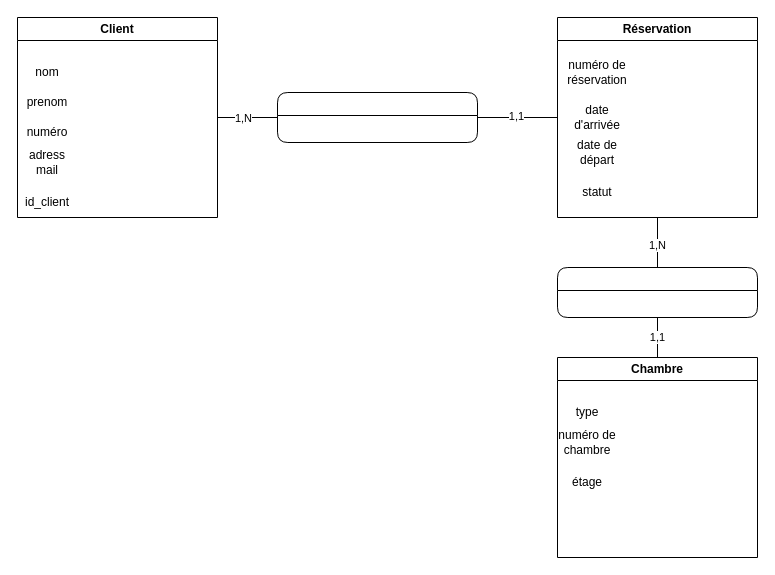
Image size: 775x575. Some labels were removed from this diagram. Here are the shapes that lost their labels. From the top down, the centre of each, then its label:
At (x=377, y=117): "Effectuer".
At (x=657, y=292): "Concerne".
